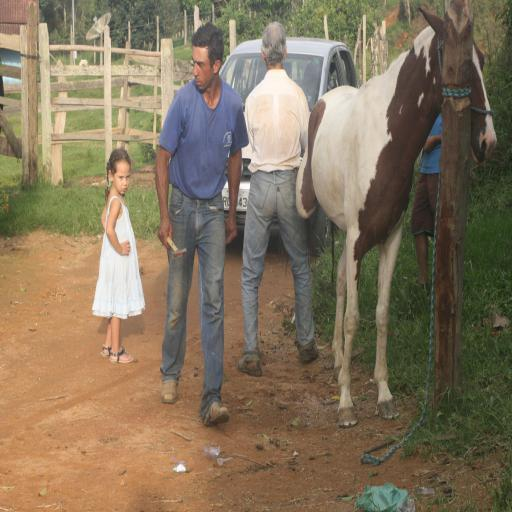horse: (275, 7, 498, 430)
